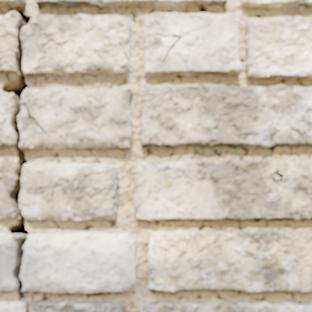brick: (140, 84, 311, 146), (134, 160, 311, 219), (148, 230, 311, 291), (143, 13, 240, 76), (245, 17, 311, 78), (141, 302, 311, 311), (36, 0, 226, 7), (30, 301, 124, 311), (241, 0, 311, 9), (0, 301, 26, 311), (0, 0, 24, 7)
broken_brick: (21, 231, 136, 293), (19, 87, 132, 150), (22, 13, 130, 76), (21, 161, 118, 221), (0, 10, 18, 74), (0, 232, 18, 291), (0, 160, 16, 219), (0, 93, 15, 147)
crack: (0, 2, 46, 309), (38, 145, 110, 148), (260, 212, 293, 218), (122, 49, 129, 62)
